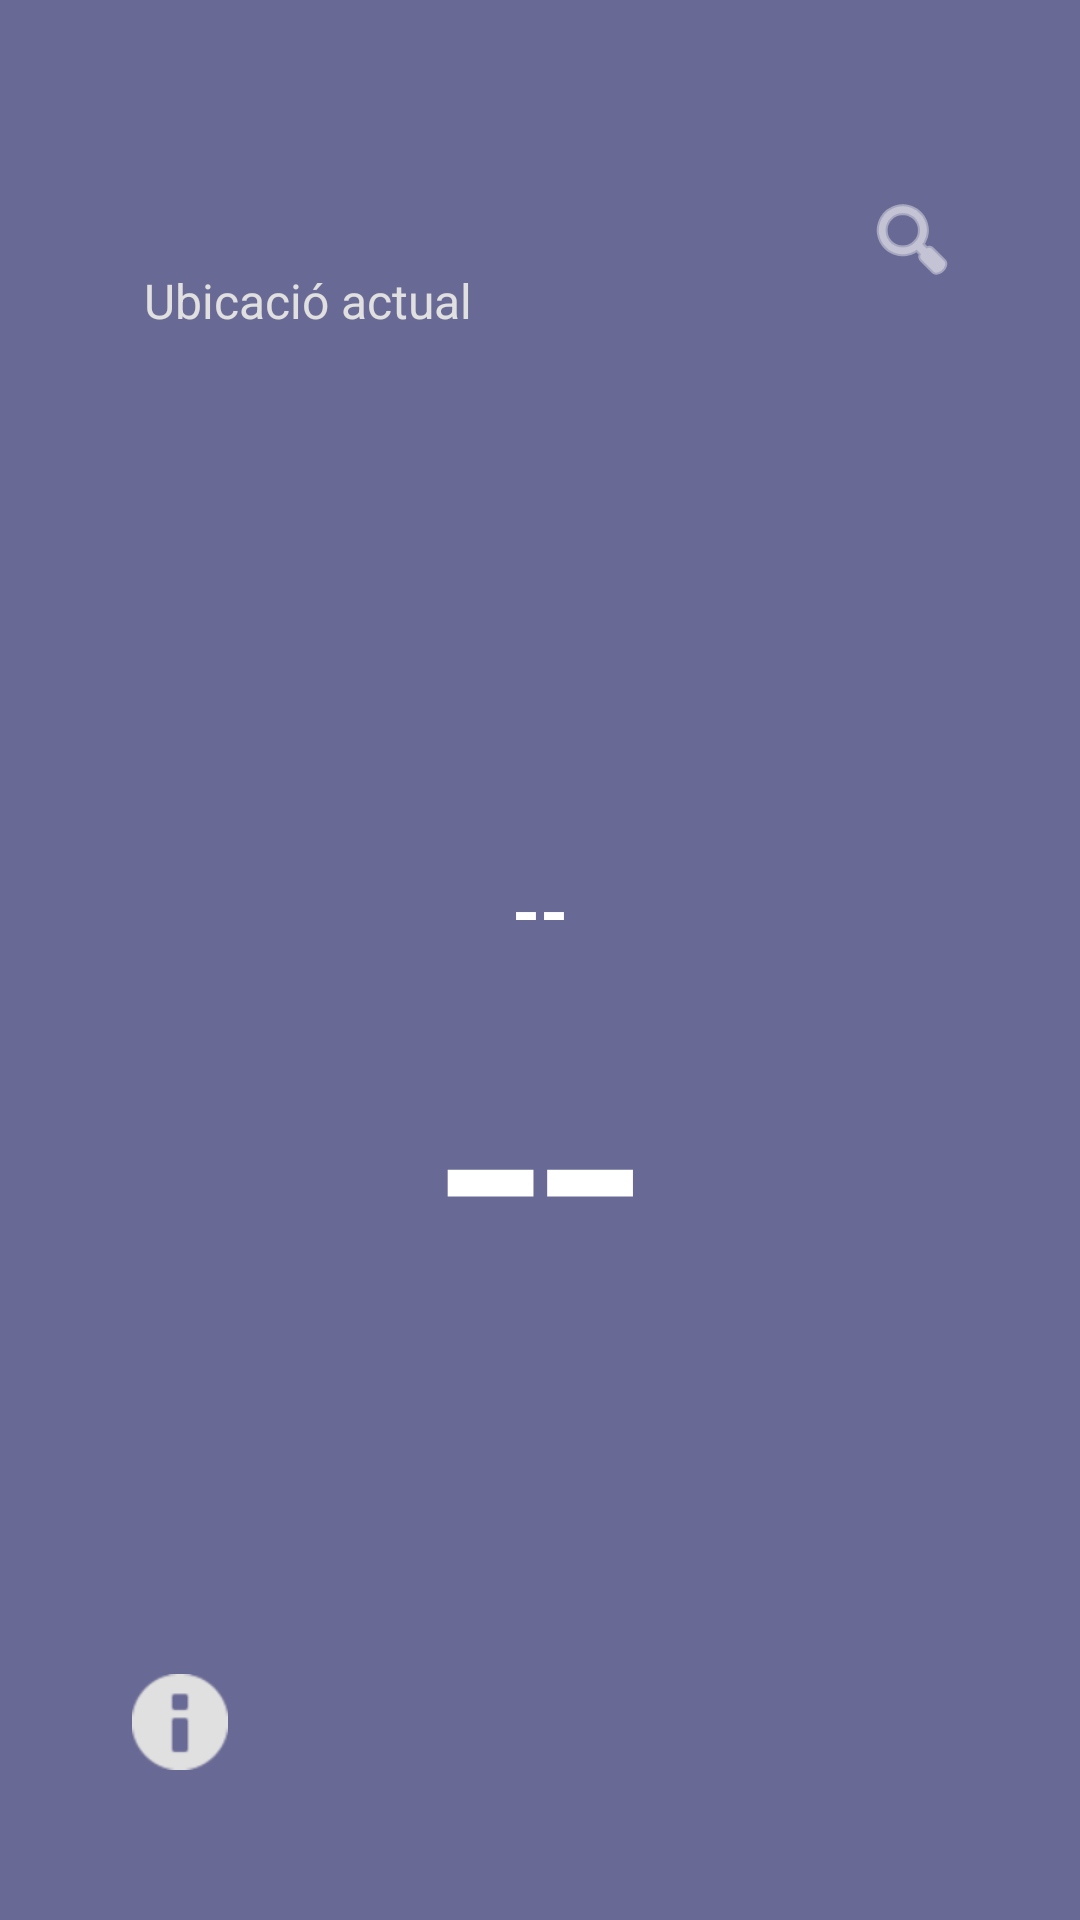

Icon bounding boxes for this 1080px×1920px phone screenshot, format {"x1": x1, "y1": y1, "x2": x2, "y2": y2}:
Seleccionar ciutat: {"x1": 877, "y1": 204, "x2": 947, "y2": 275}
